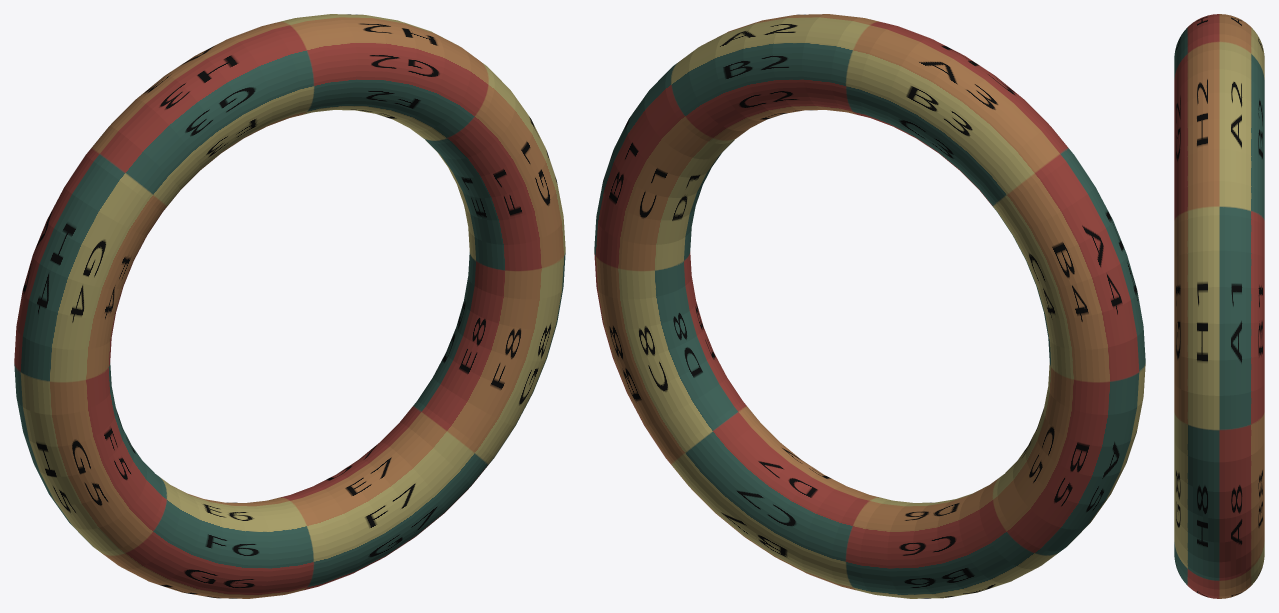
File: texture_torus_R8_r3.glb
The picture shows the model from 3 angles, left to right: view 1: azimuth 30°, elevation 25°; view 2: azimuth 150°, elevation 25°; view 3: azimuth 270°, elevation 25°; orthographic projection. The views are drawn at different scales.
Visible parts, largest first — view 1: world; view 2: world; view 3: world.
Part boxes in pixels (<box>): world: <box>14,14,565,598</box>; world: <box>594,14,1145,598</box>; world: <box>1174,14,1264,598</box>.
Bounding box in the file's own units: 18.13 × 18.1 × 2.79.
Materials: 1 (1 with a texture image).
